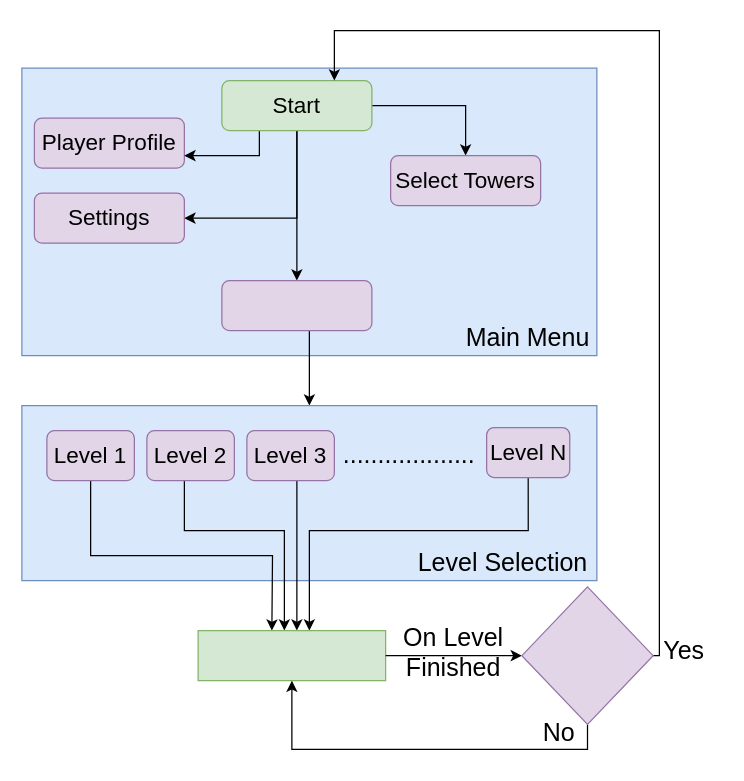
The diagram is 744 pixels wide and 781 high, and some of its shapes have lost their labels. The centre of each missing label's shape, as x and y in pixels:
"Exit to Menu" belongs at point 587,655.
"Main Gameplay" belongs at point 291,655.
"Select Level" belongs at point 296,305.
